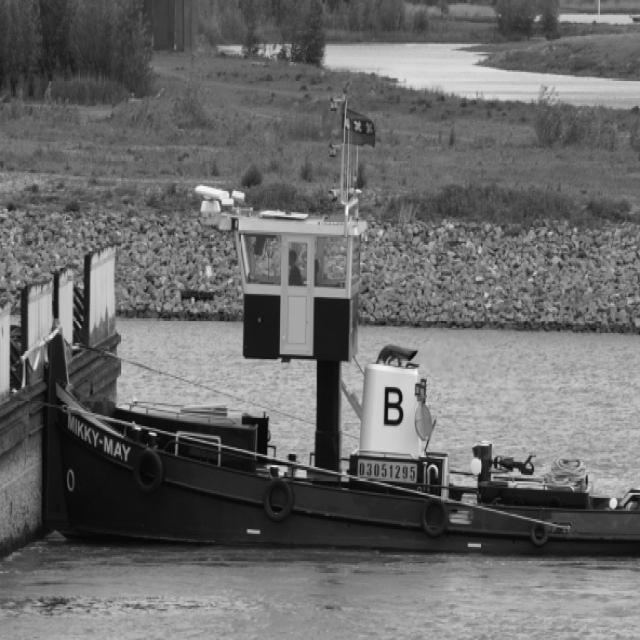tugboat: (36, 175, 640, 577)
